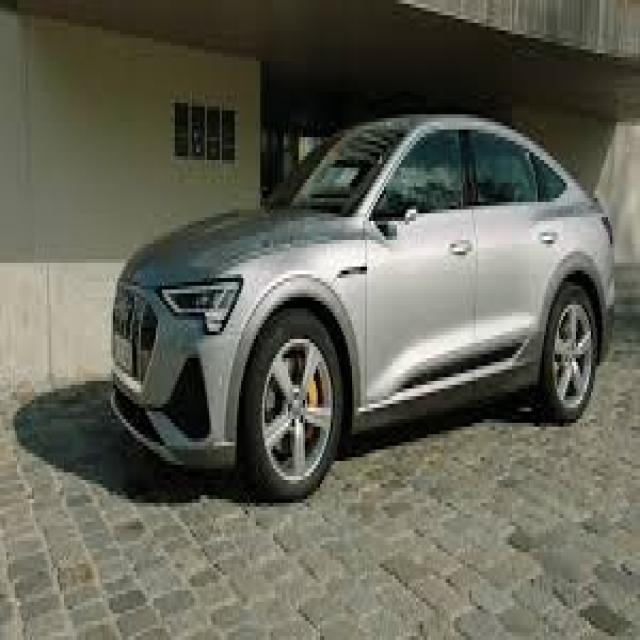Car: (111, 116, 612, 499), (111, 116, 612, 497)
